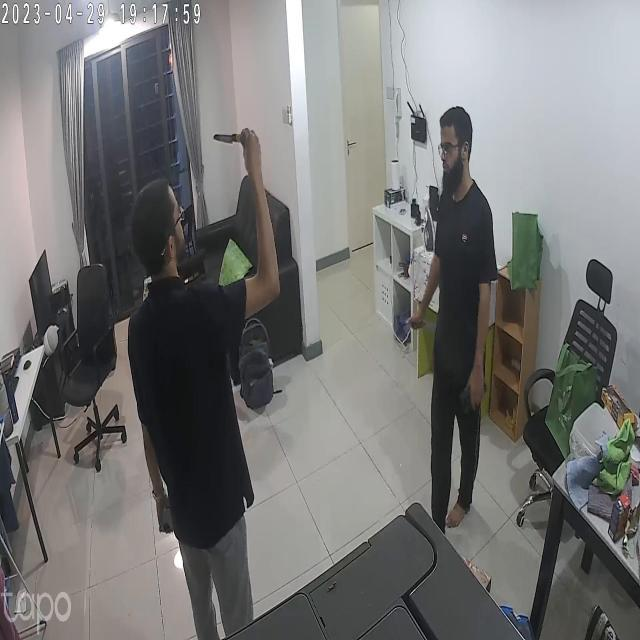Knife: (198, 122, 270, 161)
